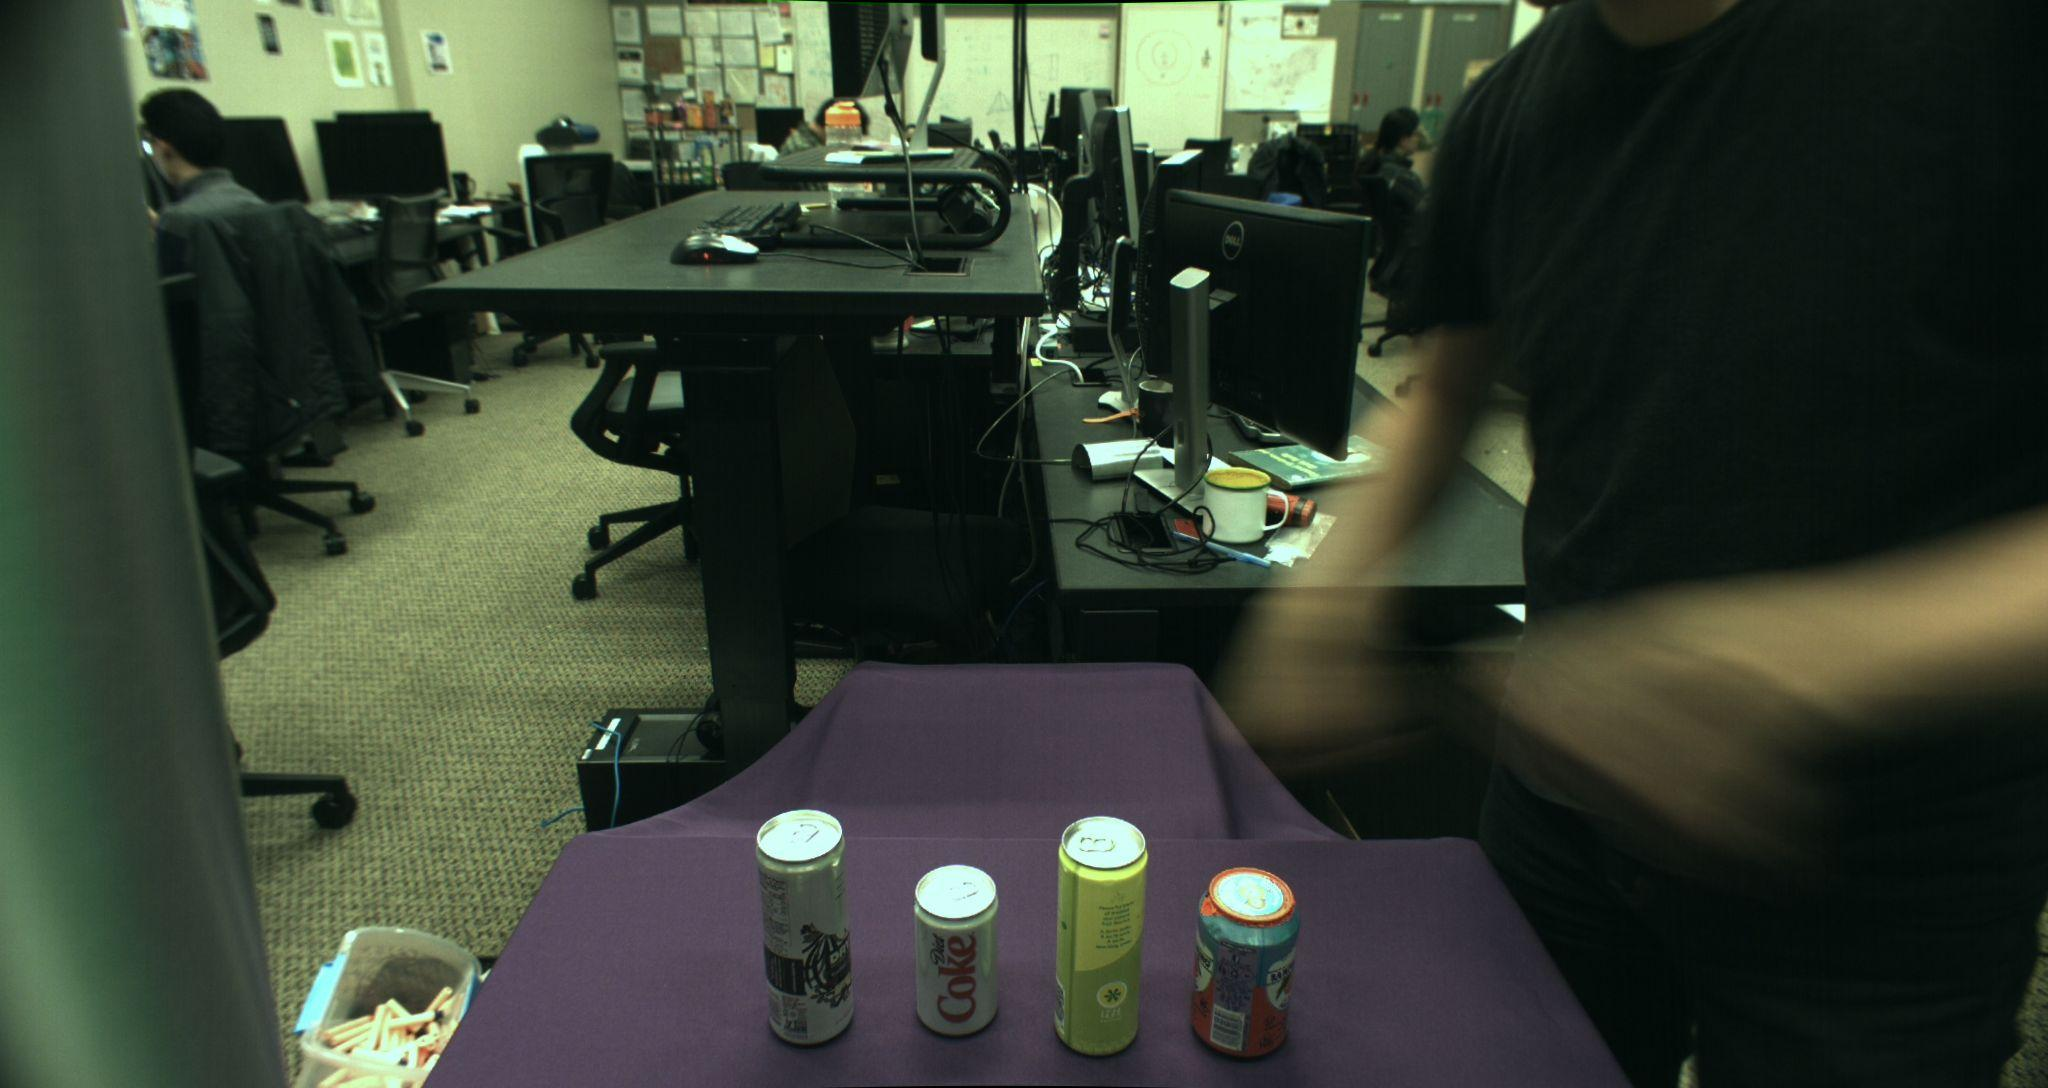can_diet_coke_small: (913, 863, 998, 1037)
can_dry_sparkling_vanilla_bean: (754, 808, 852, 1045)
can_izze_fusions_lemon_lime: (1052, 814, 1149, 1055)
can_sanpellegrino_blood_orange: (1191, 866, 1302, 1060)
